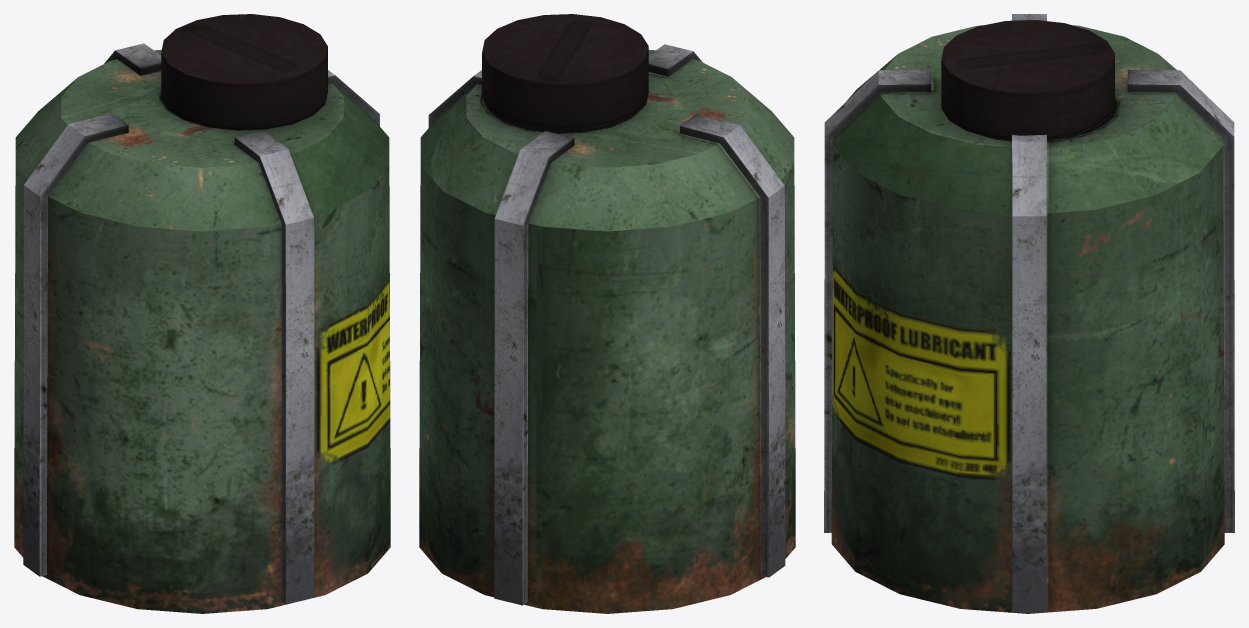
The model's file is cannister_grease_outdoor.DAE.
3 renders of one model, left to right at view 1: azimuth 30°, elevation 25°; view 2: azimuth 150°, elevation 25°; view 3: azimuth 270°, elevation 25°, orthographic. The views are drawn at different scales.
Visible parts, largest first — view 1: cannister_grease_outdoor; view 2: cannister_grease_outdoor; view 3: cannister_grease_outdoor.
Part boxes in pixels (bbox=[...]): cannister_grease_outdoor: bbox=[14, 14, 390, 613]; cannister_grease_outdoor: bbox=[419, 14, 795, 613]; cannister_grease_outdoor: bbox=[824, 14, 1234, 613].
Size of the model in its own units: 10.65 by 14.15 by 10.65.
